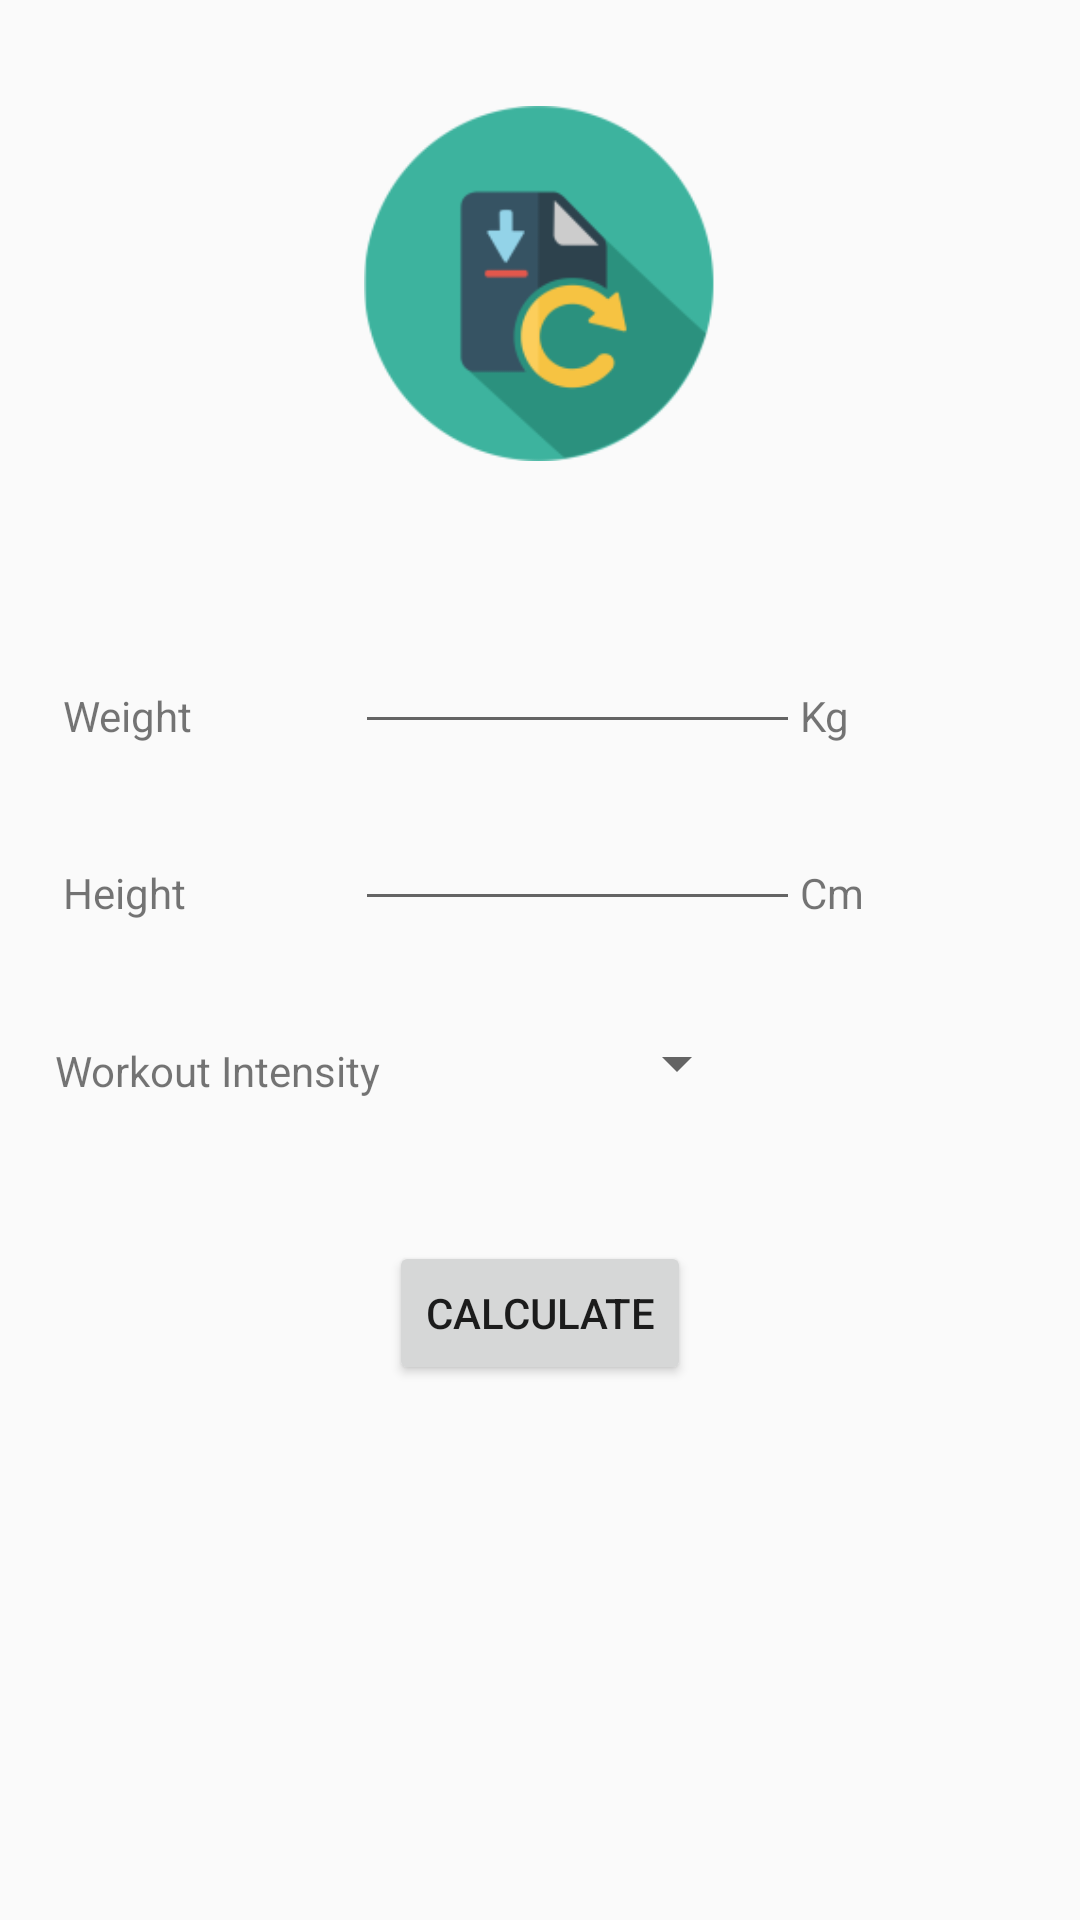

Screen size 1080×1920. Icon name, then its center in pixels as (x,y):
update: (539,283)
